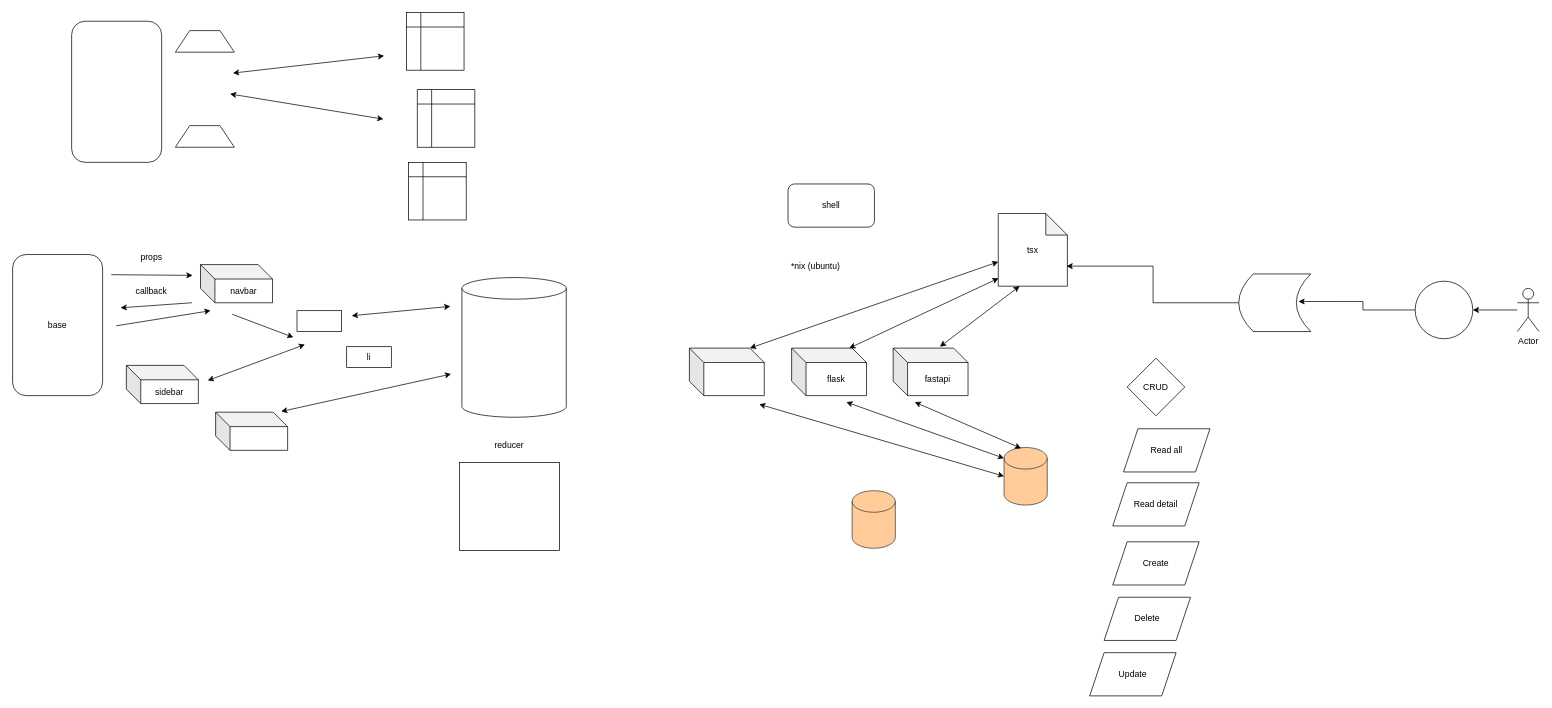
The diagram is 1552 pixels wide and 708 high, and some of its shapes have lost their labels. The shapes that lost their labels are listed below. From the top down, each one's box as (x1, y1, x2, y2) in pixels, then its label:
(296, 310, 342, 332): dropdown
(1238, 273, 1311, 332): nginx
(461, 277, 566, 417): json
(689, 347, 764, 396): django
(215, 411, 288, 450): footer
(1003, 447, 1047, 505): postgres
(459, 462, 559, 550): DEFAULT LOAD SUCCESS FAIL RESET
(851, 490, 895, 548): redis
